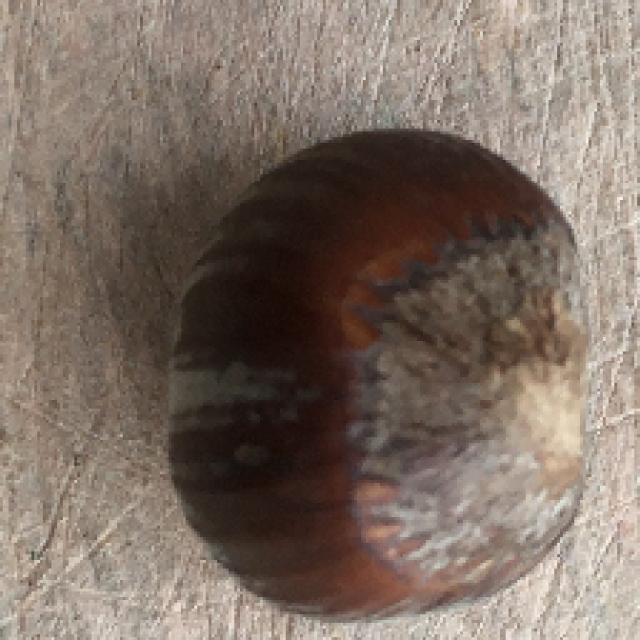damagedHazelnut: (169, 135, 609, 624)
